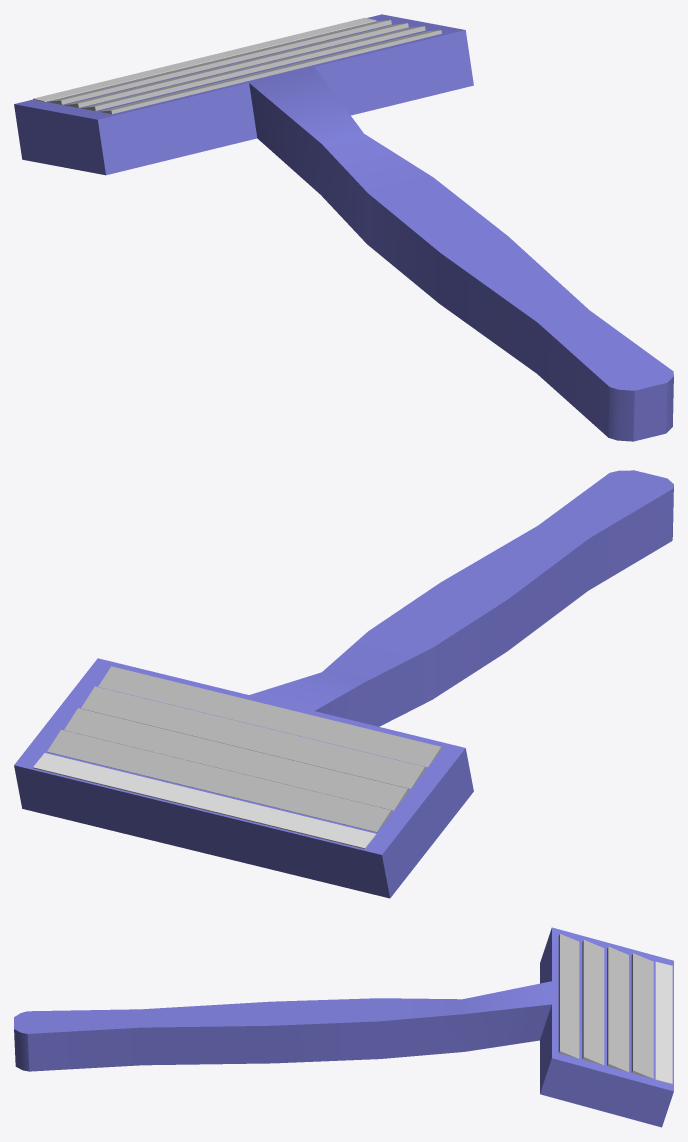
Rendered from Razor.fbx.
3 renders of one model, top to bottom at view 1: azimuth 30°, elevation 25°; view 2: azimuth 150°, elevation 25°; view 3: azimuth 270°, elevation 25°, orthographic. The views are drawn at different scales.
Visible parts, largest first — view 1: Razor1; view 2: Razor1; view 3: Razor1.
Boxes of the visible parts, box(x1,y1,x2,y2) form: Razor1: box(14, 14, 673, 441); Razor1: box(14, 470, 673, 898); Razor1: box(14, 927, 673, 1127).
Bounding box in the file's own units: 6.3 × 1.57 × 13.43.
